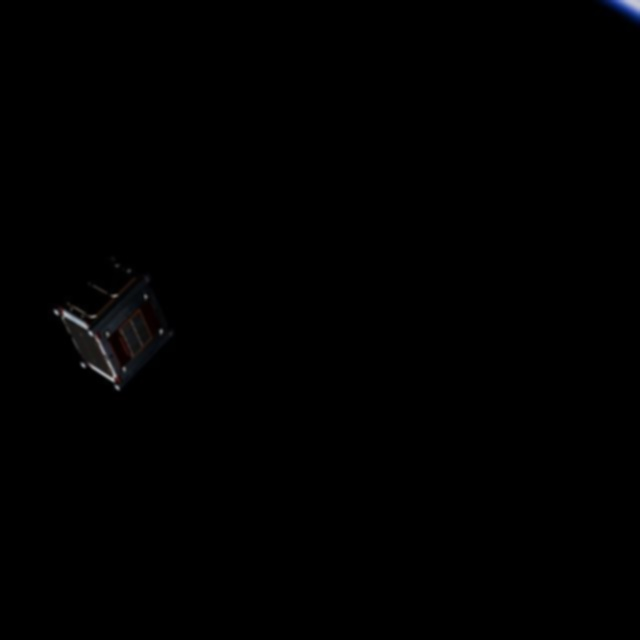medium_debris: (47, 246, 177, 395)
